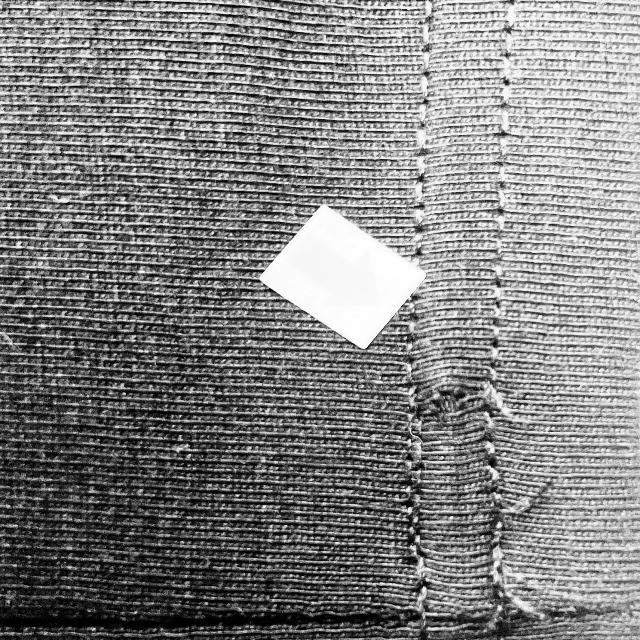Hole: (410, 376, 484, 442)
